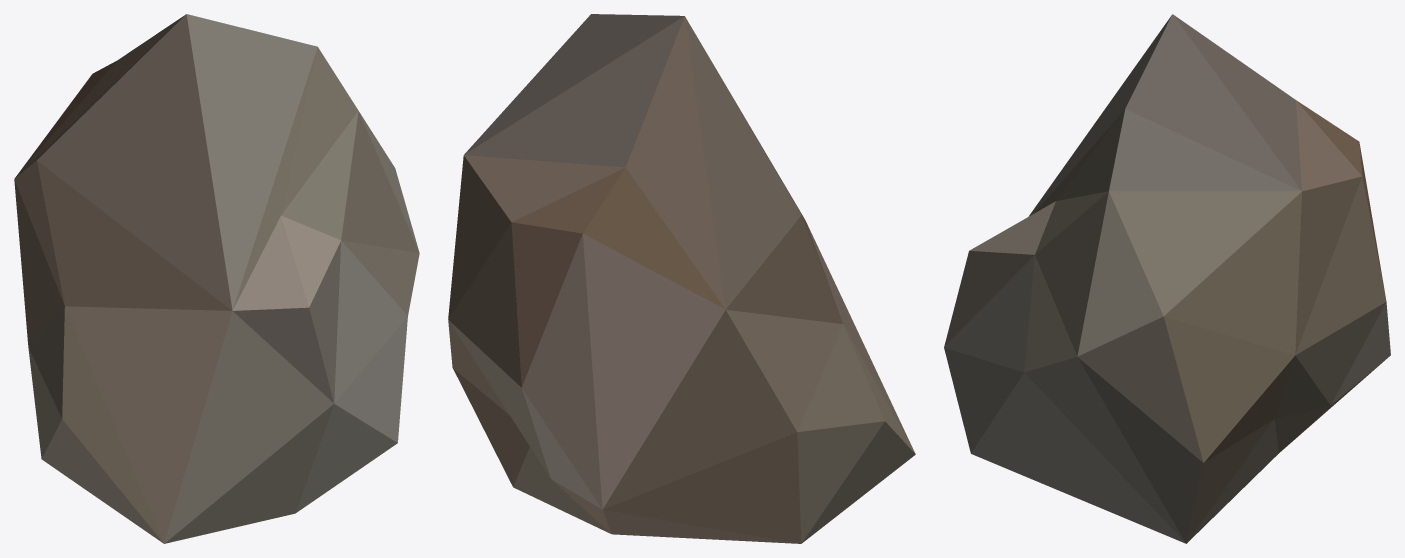
File: Prop-Boulder_B.fbx
The picture shows the model from 3 angles, left to right: view 1: azimuth 30°, elevation 25°; view 2: azimuth 150°, elevation 25°; view 3: azimuth 270°, elevation 25°; orthographic projection. The views are drawn at different scales.
Visible parts, largest first — view 1: Prop-Boulder_B; view 2: Prop-Boulder_B; view 3: Prop-Boulder_B.
Boxes of the visible parts, x1=… form: Prop-Boulder_B: x1=14, y1=14, x2=419, y2=543; Prop-Boulder_B: x1=448, y1=14, x2=915, y2=543; Prop-Boulder_B: x1=944, y1=14, x2=1390, y2=543.
Size of the model in its own units: 129 by 157 by 139.
